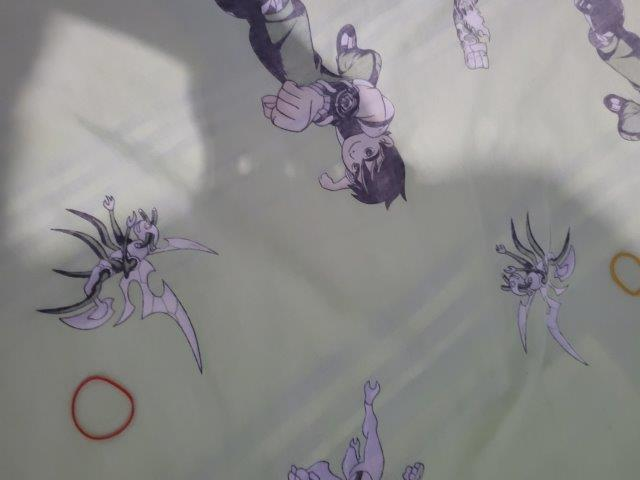karet: (71, 376, 135, 440), (610, 252, 640, 300)
